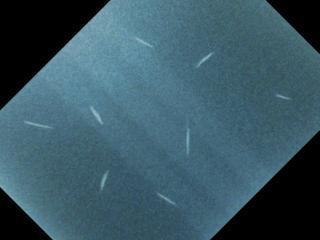scratch: (185, 46, 221, 74), (18, 113, 58, 137), (150, 185, 183, 213), (83, 101, 112, 129), (179, 118, 197, 162), (129, 31, 158, 55), (96, 167, 111, 196), (270, 88, 295, 105)
